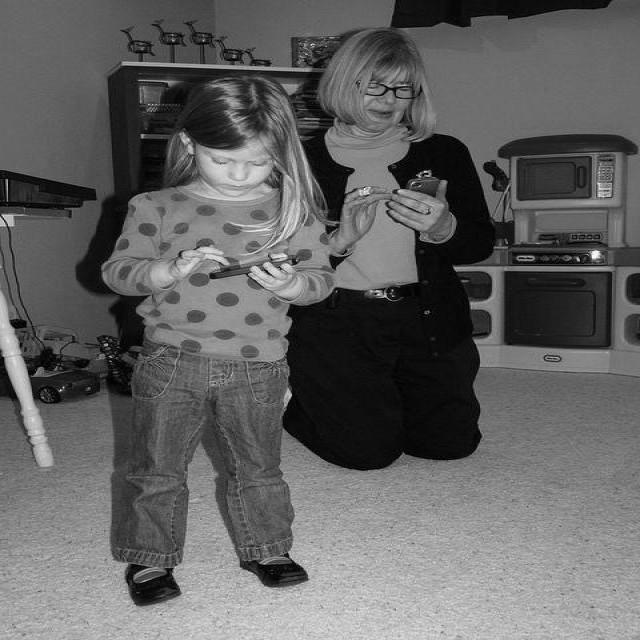vehicle: (23, 362, 102, 402)
